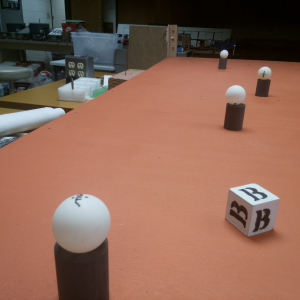blockB: (225, 182, 281, 236)
corner: (165, 24, 179, 58)
obstacle: (53, 192, 110, 300), (223, 84, 250, 133), (254, 65, 273, 99), (217, 49, 230, 69)
